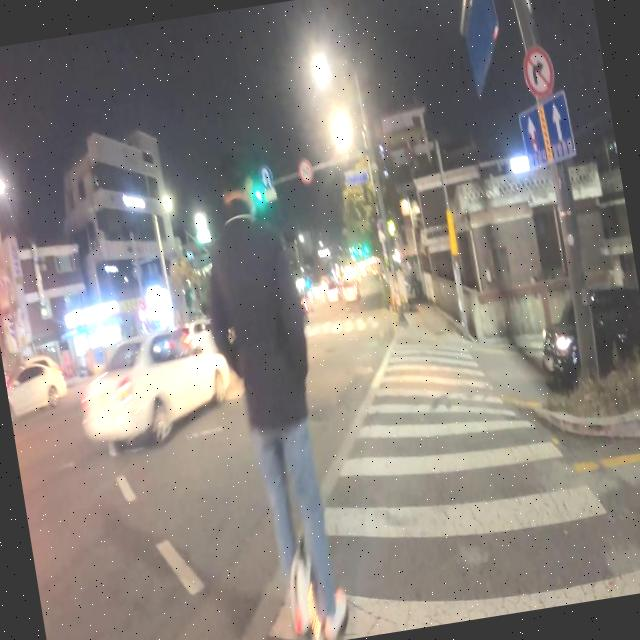crosswalk: (267, 337, 640, 640), (305, 312, 382, 339)
